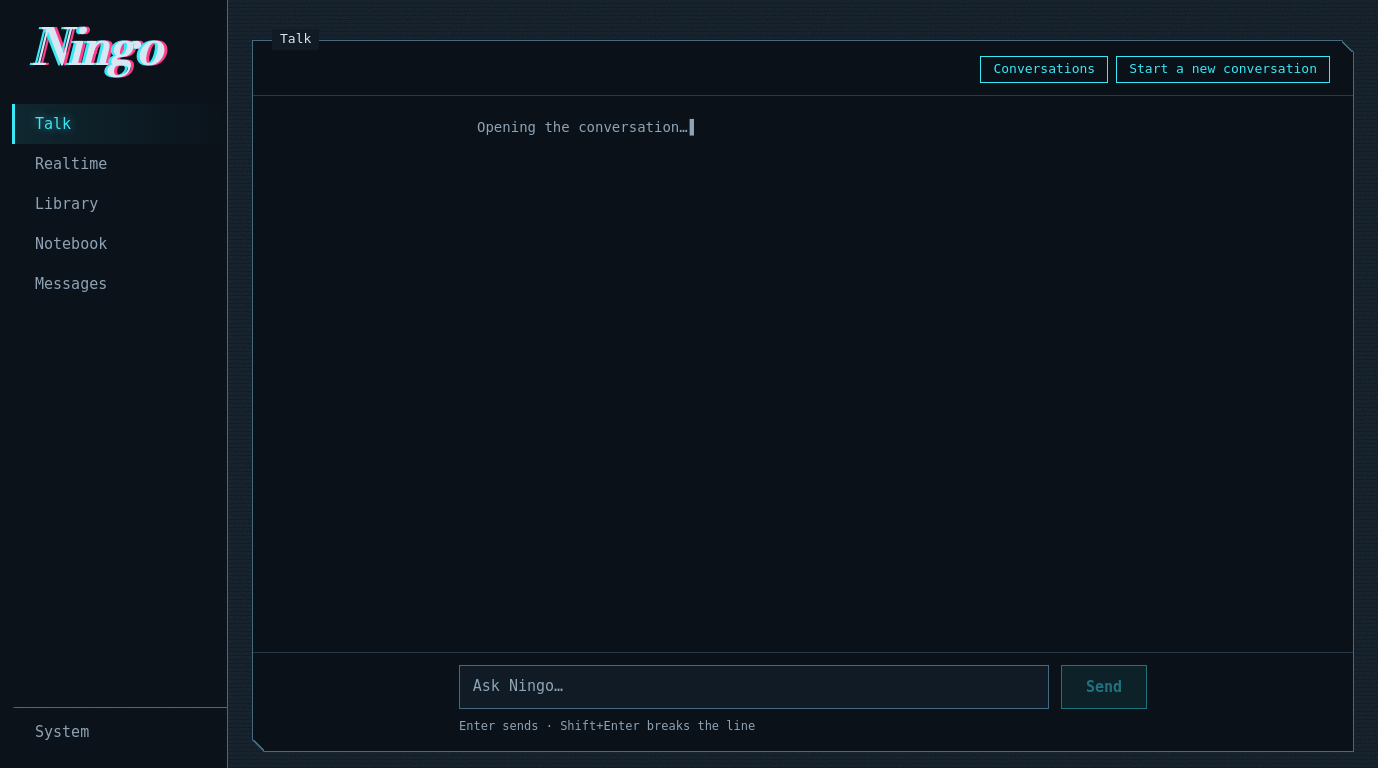
the screen › opens a reading's discussion with the questions its source wrote, in place of the generic ones
The width and height of the screenshot is (1378, 768).
Click the tab "Library": (120, 204) [12, 184, 227, 224]
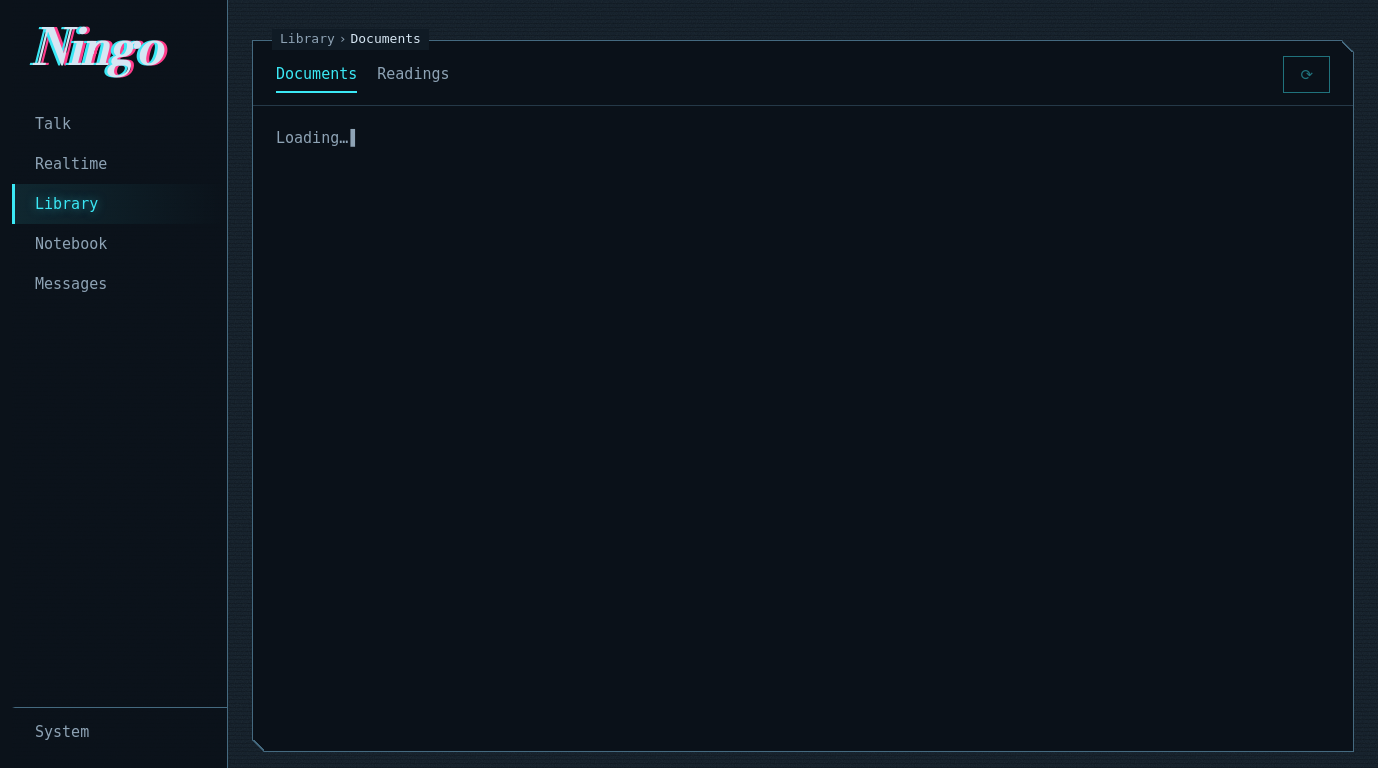
Click the tab "Readings": (413, 75) [377, 56, 450, 93]
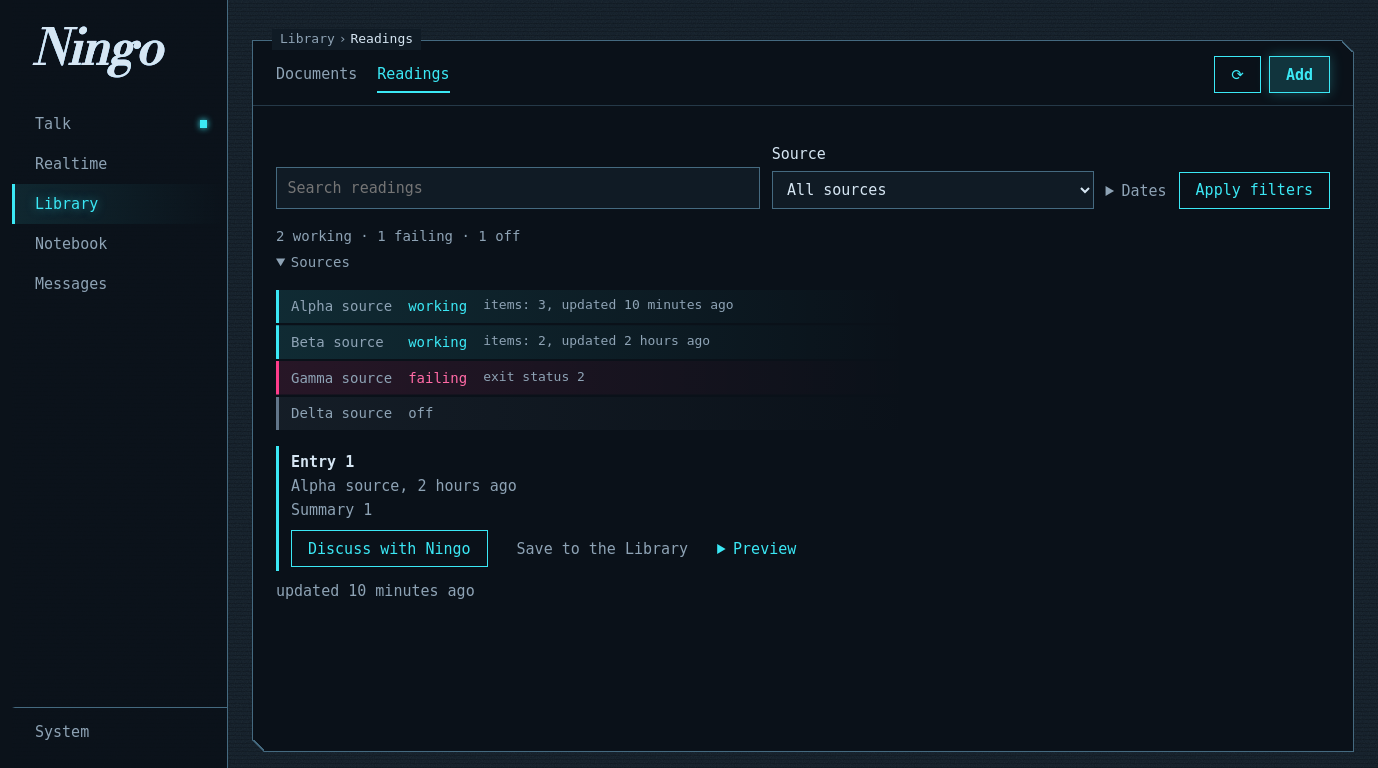
Click the button with aria-label "Discuss with Ningo: Entry 1": (389, 549) [291, 530, 488, 567]
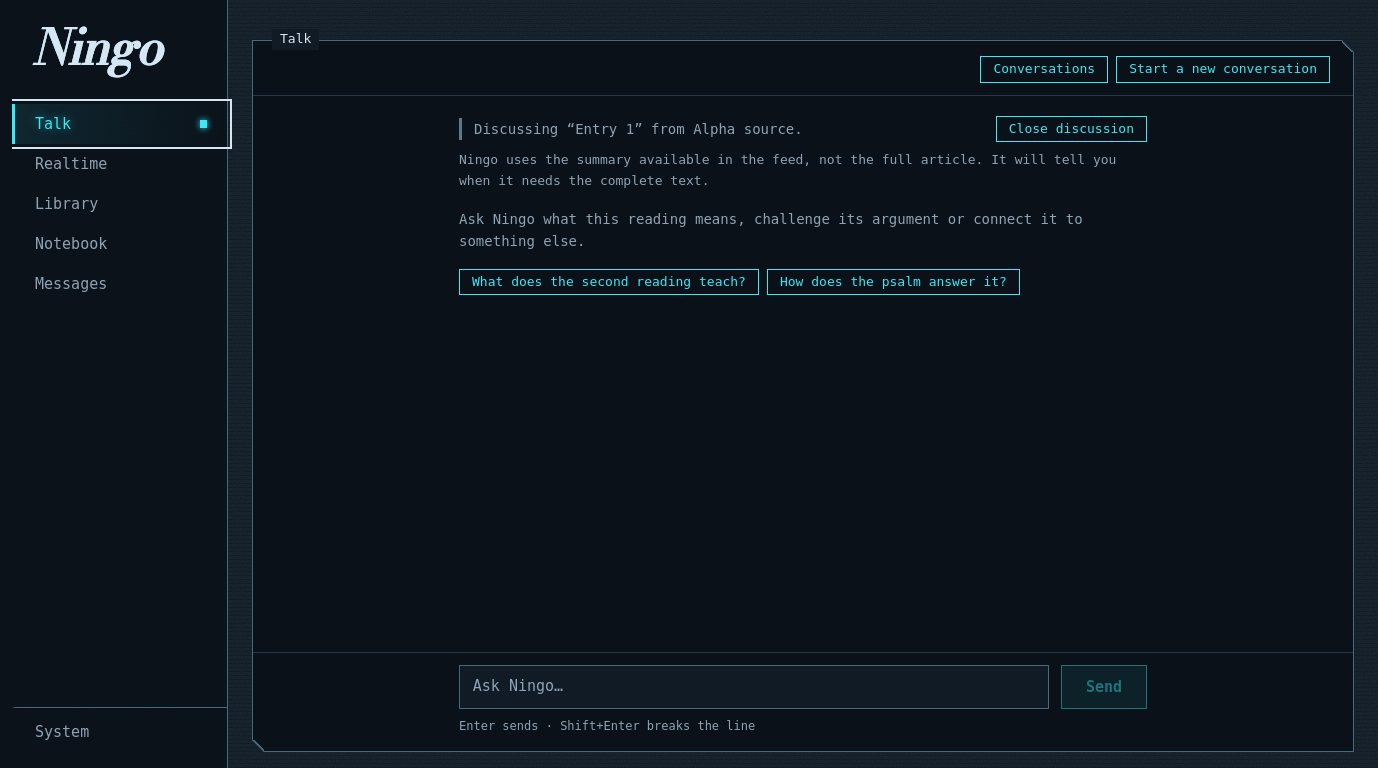
expect the 2nd text with class "tab-label" reads "Talk": met, box [35, 115, 71, 133]
expect the button "How does the psalm answer it?" is shown: met, box [767, 268, 1020, 295]
Click the button "What does the second reading teach?": (609, 282) [459, 268, 759, 295]
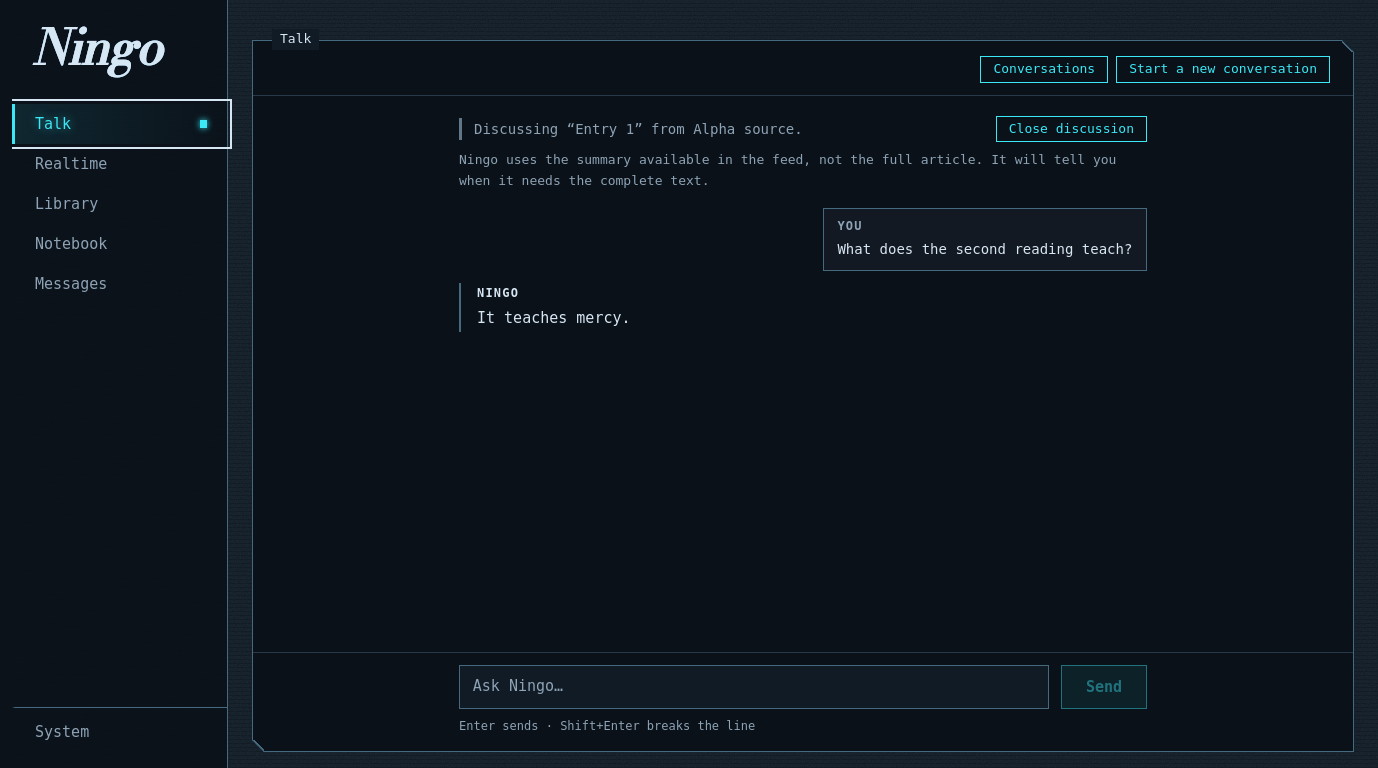
expect the text "It teaches mercy." is shown: met, box [477, 309, 630, 327]
